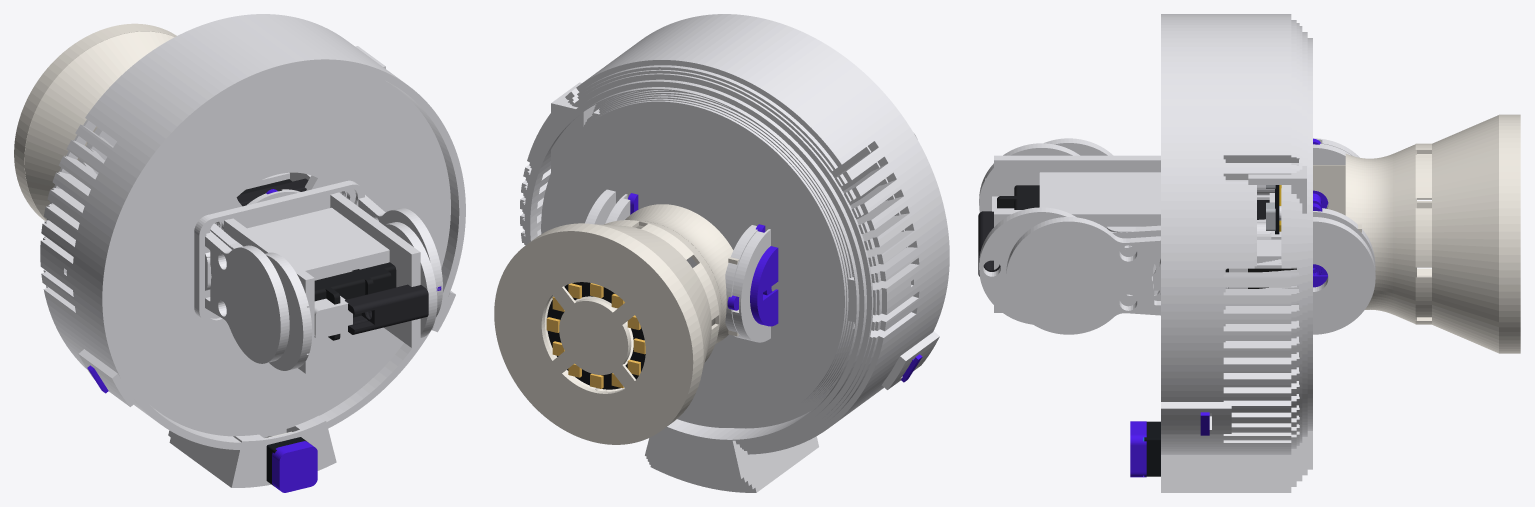
Rendered from hotaru2-rig.glb.
The picture shows the model from 3 angles, left to right: view 1: azimuth 30°, elevation 25°; view 2: azimuth 150°, elevation 25°; view 3: azimuth 270°, elevation 25°; orthographic projection. The views are drawn at different scales.
Visible parts, largest first — view 1: v2-disc, v2-tub, shade, v2-tower, v2-link2-in, v2-head, v2-link1-out, v2-link1-ledges, v2-keycap, v2-link2-out, el-mg996r-body, v2-link1-in (+3 smaller); view 2: v2-tub, v2-conecap, shade, v2-link2-in, ring-leds, v2-trimcap, ring-pcb, v2-link1-out, v2-link2-out, v2-disc; view 3: v2-tub, shade, v2-link2-out, v2-tower, v2-link1-in, v2-head, v2-link1-out, v2-conecap, v2-keycap, v2-link2-in, mx-mx-upper, v2-link1-ledges (+1 smaller).
Part boxes in pixels (left/top/right/bottom): v2-disc: left=109, top=66, right=450, bottom=436; v2-tub: left=40, top=14, right=465, bottom=487; shade: left=17, top=26, right=176, bottom=220; v2-tower: left=194, top=180, right=420, bottom=373; v2-link2-in: left=205, top=231, right=289, bottom=363; v2-head: left=229, top=207, right=389, bottom=338; v2-link1-out: left=210, top=223, right=312, bottom=370; v2-link1-ledges: left=345, top=284, right=428, bottom=334; v2-keycap: left=272, top=441, right=317, bottom=492; v2-link2-out: left=358, top=195, right=442, bottom=316; el-mg996r-body: left=314, top=265, right=391, bottom=337; v2-link1-in: left=289, top=172, right=437, bottom=337; v2-tub: left=520, top=14, right=949, bottom=492; v2-conecap: left=494, top=229, right=696, bottom=444; shade: left=532, top=204, right=738, bottom=425; v2-link2-in: left=732, top=229, right=770, bottom=342; ring-leds: left=546, top=283, right=645, bottom=388; v2-trimcap: left=750, top=246, right=778, bottom=326; ring-pcb: left=547, top=282, right=645, bottom=389; v2-link1-out: left=725, top=133, right=917, bottom=339; v2-link2-out: left=585, top=189, right=615, bottom=224; v2-disc: left=831, top=152, right=878, bottom=323; v2-tub: left=1161, top=14, right=1312, bottom=492; shade: left=1313, top=114, right=1513, bottom=353; v2-link2-out: left=1006, top=217, right=1375, bottom=334; v2-tower: left=992, top=155, right=1160, bottom=312; v2-link1-in: left=979, top=207, right=1375, bottom=324; v2-head: left=1039, top=172, right=1160, bottom=305; v2-link1-out: left=979, top=143, right=1351, bottom=212; v2-conecap: left=1514, top=114, right=1520, bottom=353; v2-keycap: left=1130, top=421, right=1146, bottom=477; v2-link2-in: left=1044, top=138, right=1359, bottom=157; mx-mx-upper: left=1144, top=421, right=1160, bottom=476; v2-link1-ledges: left=978, top=211, right=1000, bottom=276.
Size of the model in its own units: 162 by 178 by 200.
